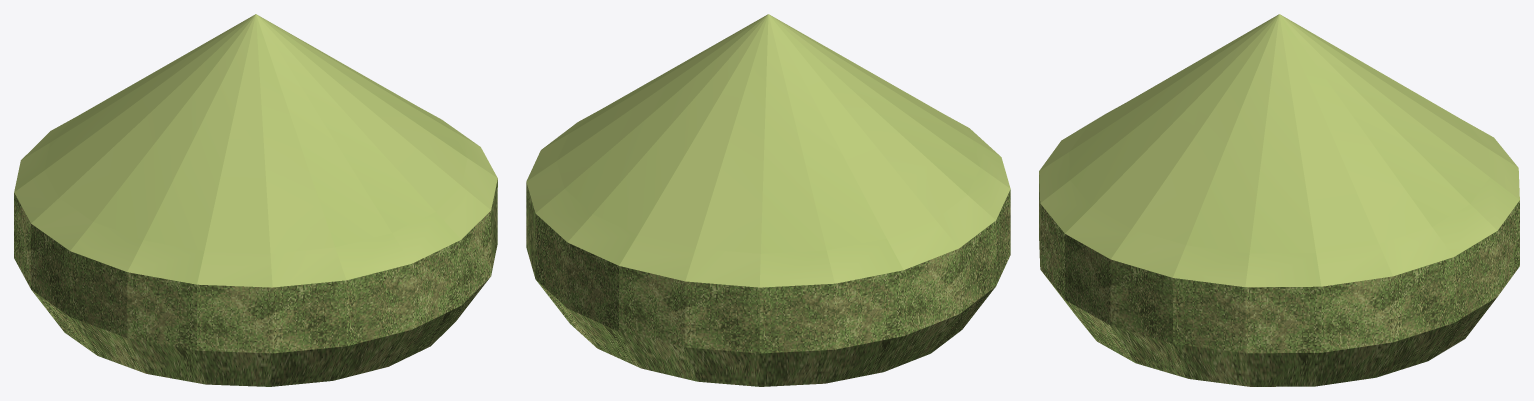
The picture shows the model from 3 angles, left to right: view 1: azimuth 30°, elevation 25°; view 2: azimuth 150°, elevation 25°; view 3: azimuth 270°, elevation 25°; orthographic projection.
Visible parts, largest first — view 1: mesh00; view 2: mesh00; view 3: mesh00.
Part boxes in pixels (box(x1,y1,x2,y2)): mesh00: box(14, 14, 497, 386); mesh00: box(526, 14, 1010, 386); mesh00: box(1039, 14, 1519, 386).
Size of the model in its own units: 107588 by 75693 by 107589.
